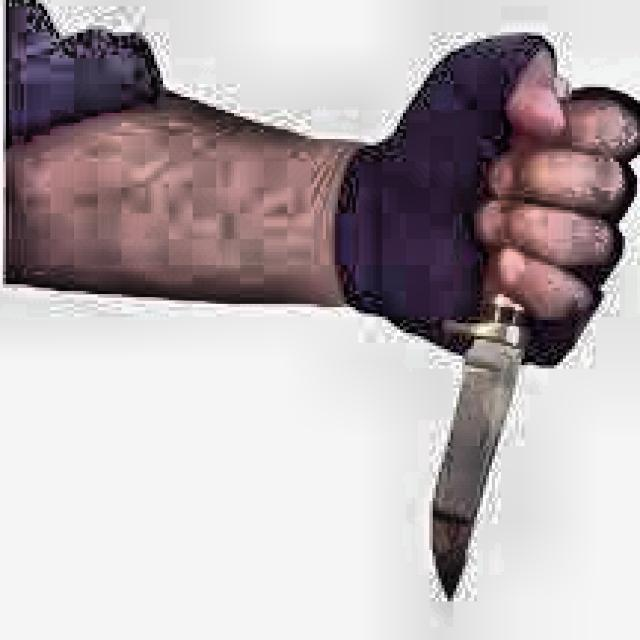knife: (432, 79, 574, 609)
